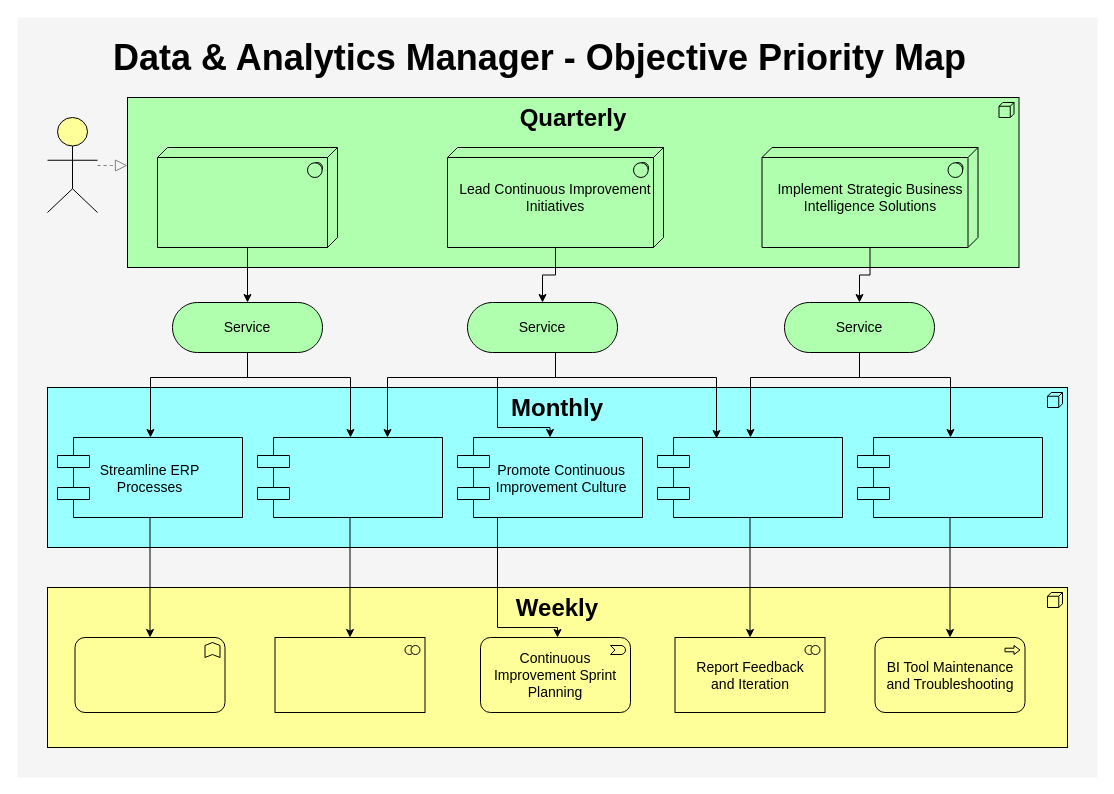
The diagram is 1114 pixels wide and 794 high, and some of its shapes have lost their labels. The shapes that lost their labels are listed below. From the top down, each one's centre as x and y in pixels, then its label:
At point 247,197: "Enhance ERP Systems Efficiency".
At point 349,477: "Training and Skill Development".
At point 749,477: "Enhance Reporting and Analysis".
At point 949,477: "Develop BI Infrastructure".
At point 149,674: "ERP Process Optimization".
At point 349,674: "Skills Enhancement Sessions".
